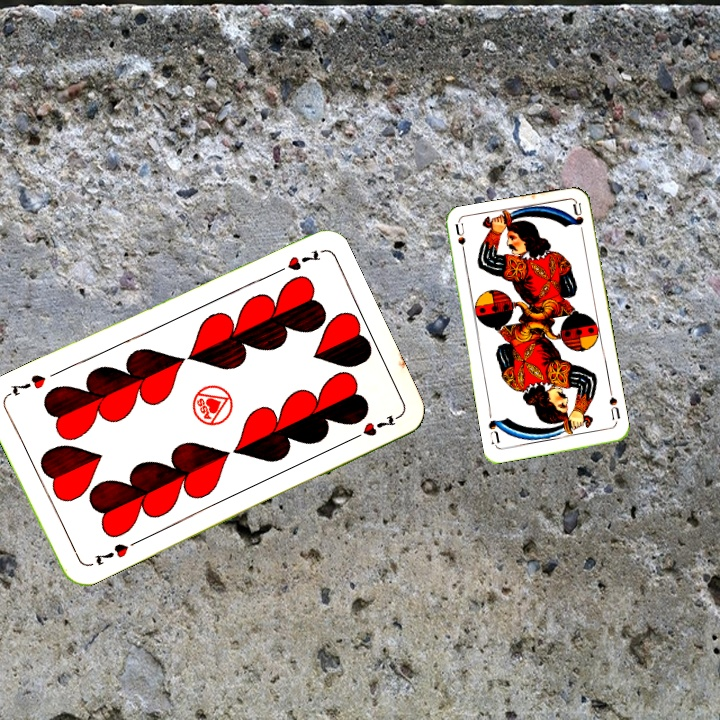H7: (268, 245, 323, 278), (91, 539, 131, 568)
SU: (605, 386, 623, 427), (451, 221, 469, 261)
